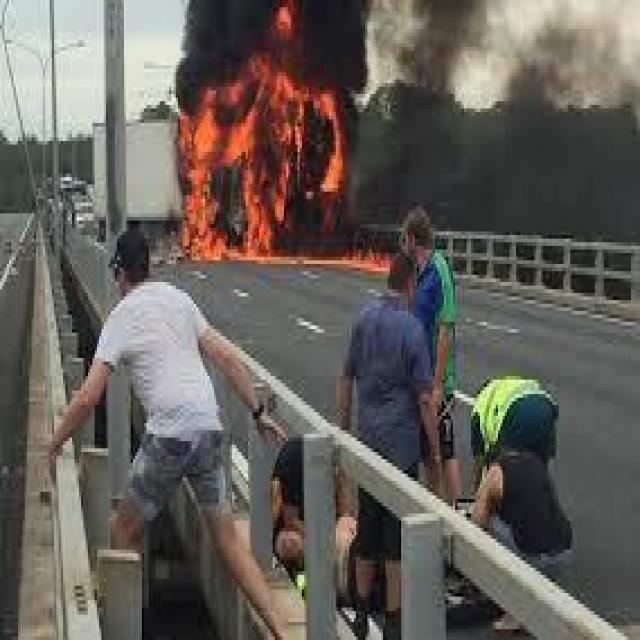fire: (170, 0, 402, 268)
smoke: (337, 0, 621, 224), (166, 0, 369, 119)
